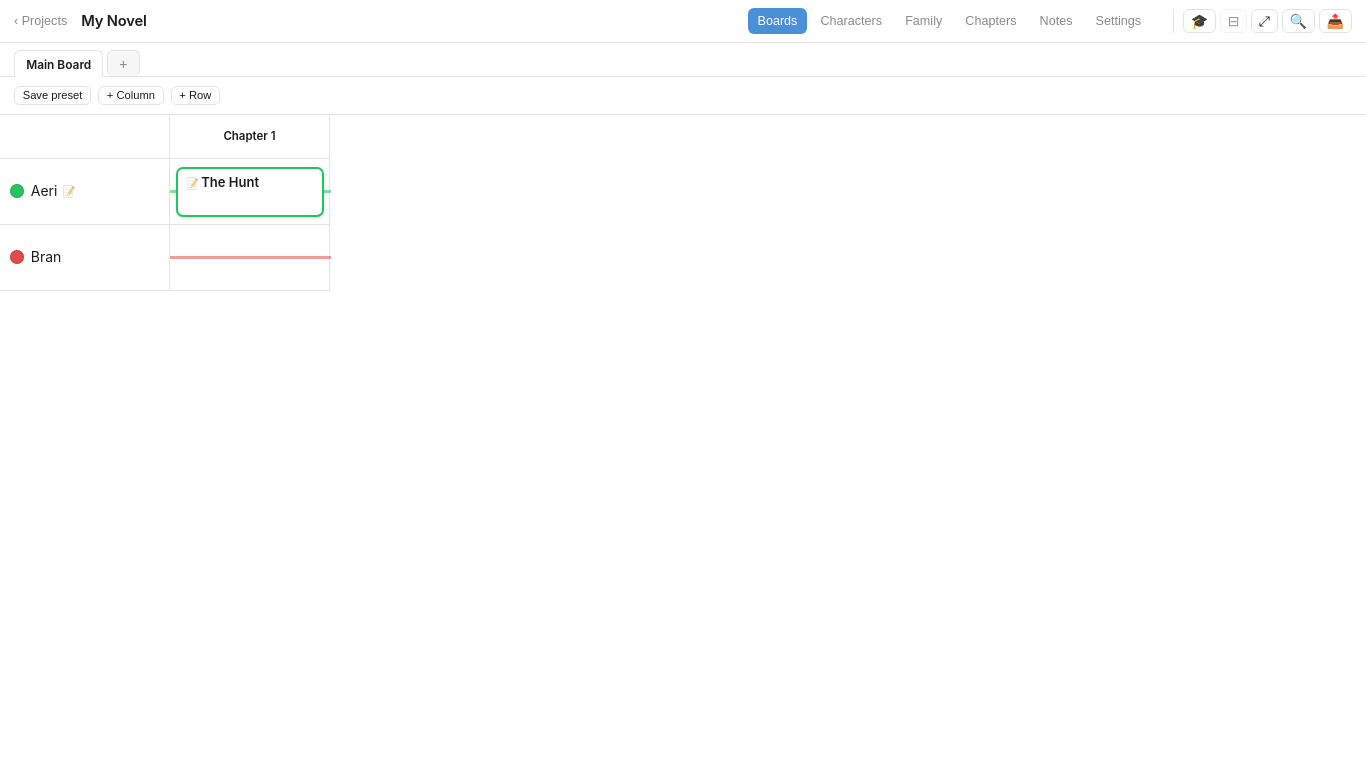
Test case: the board’s note side panel › opens a row header’s character note in the same panel
Expected: the heading "My Novel" is shown, [81,12,147,30]
Click the button titled "Read Aeri’s note".
click(92, 191)  # box [31,182,154,200]
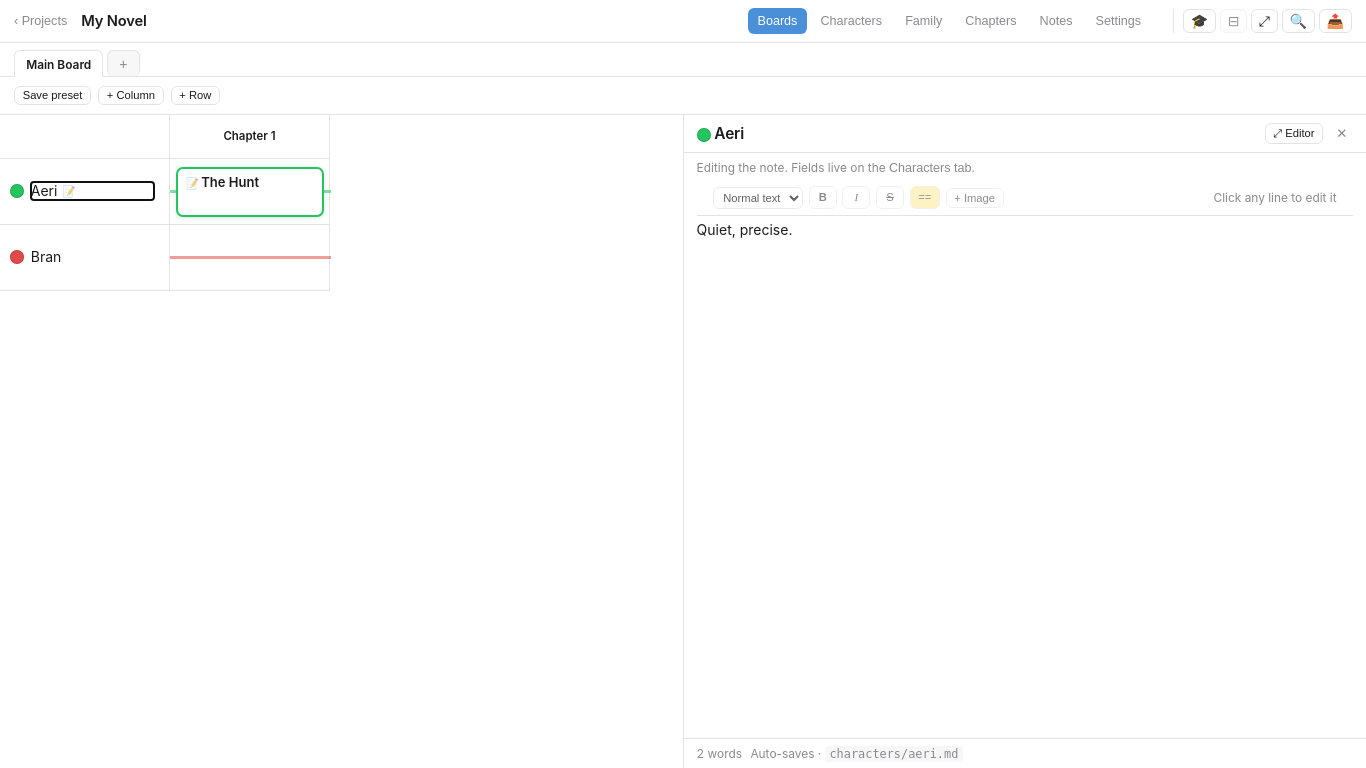
Expected: the text "Quiet, precise." is shown, [697,222,792,238]
Expected: the text "characters/aeri.md" is shown, [824,746,963,762]
